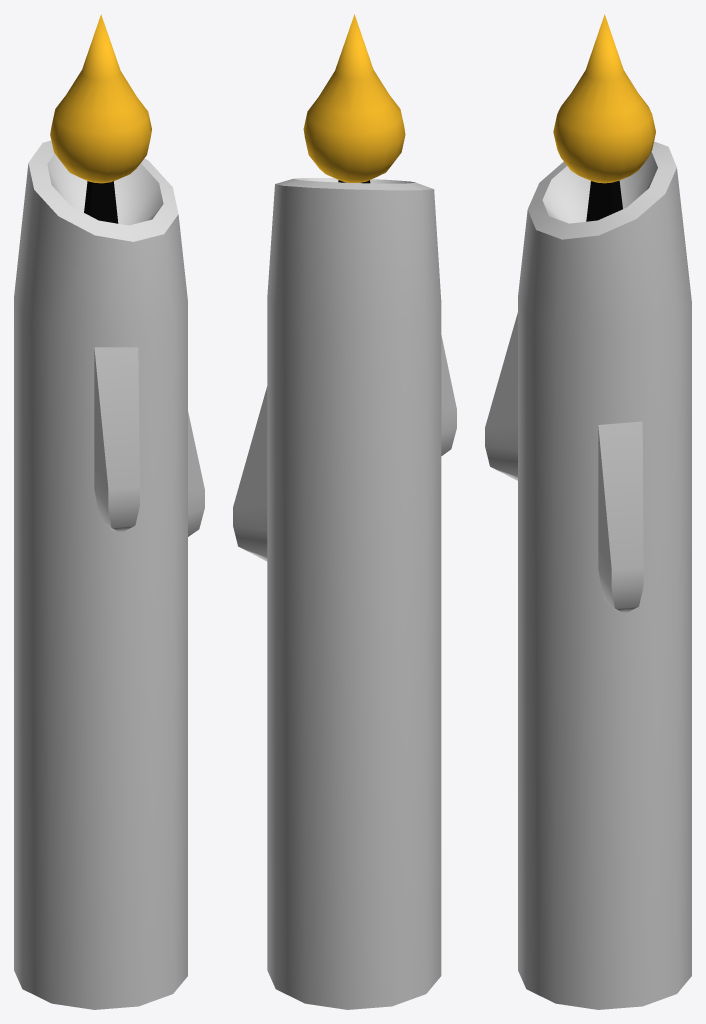
File: candleSmall.glb
The picture shows the model from 3 angles, left to right: view 1: azimuth 30°, elevation 25°; view 2: azimuth 150°, elevation 25°; view 3: azimuth 270°, elevation 25°; orthographic projection.
Visible parts, largest first — view 1: candleSmall; view 2: candleSmall; view 3: candleSmall.
Boxes of the visible parts, x1=… form: candleSmall: x1=14, y1=14, x2=204, y2=1009; candleSmall: x1=233, y1=14, x2=456, y2=1009; candleSmall: x1=485, y1=14, x2=691, y2=1009.
Size of the model in its own units: 0.1739 by 0.873 by 0.1707.
